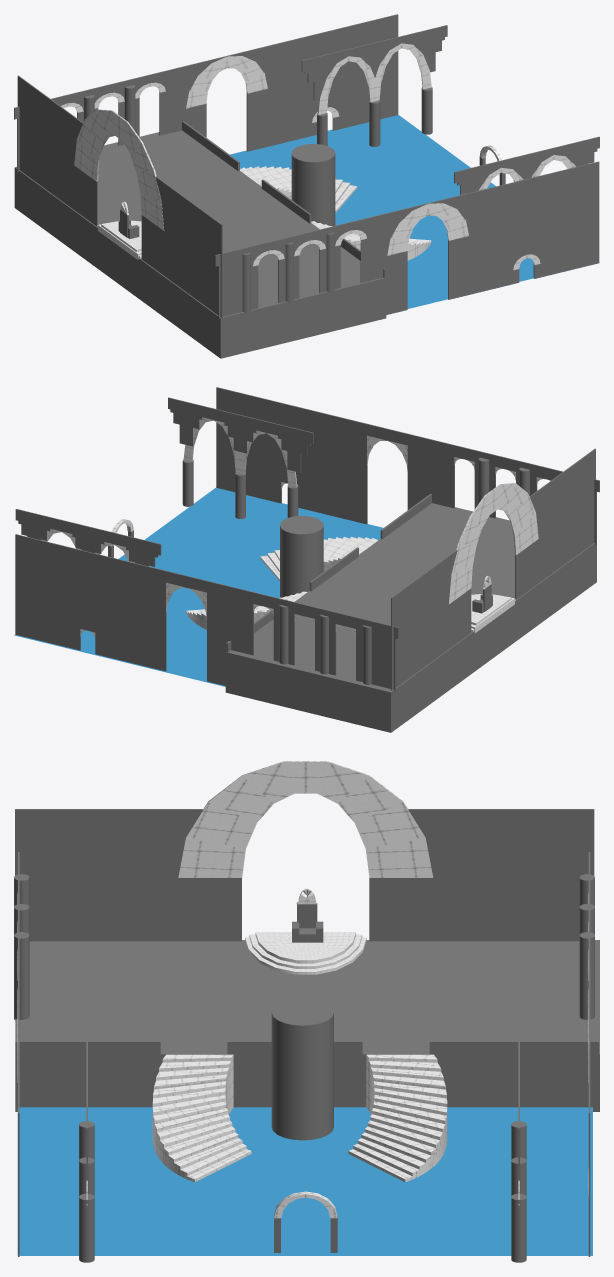
The model's file is ThroneRoom.gltf.
3 renders of one model, top to bottom at view 1: azimuth 30°, elevation 25°; view 2: azimuth 150°, elevation 25°; view 3: azimuth 270°, elevation 25°, orthographic. The views are drawn at different scales.
Parts seen in each view (by area): view 1: Stairs; view 2: Stairs; view 3: Stairs.
Part boxes in pixels (x1,y1,x2,y2): Stairs: [14, 14, 599, 358]; Stairs: [14, 387, 599, 732]; Stairs: [14, 761, 599, 1262].
Size of the model in its own units: 59.03 by 23.09 by 51.77.
